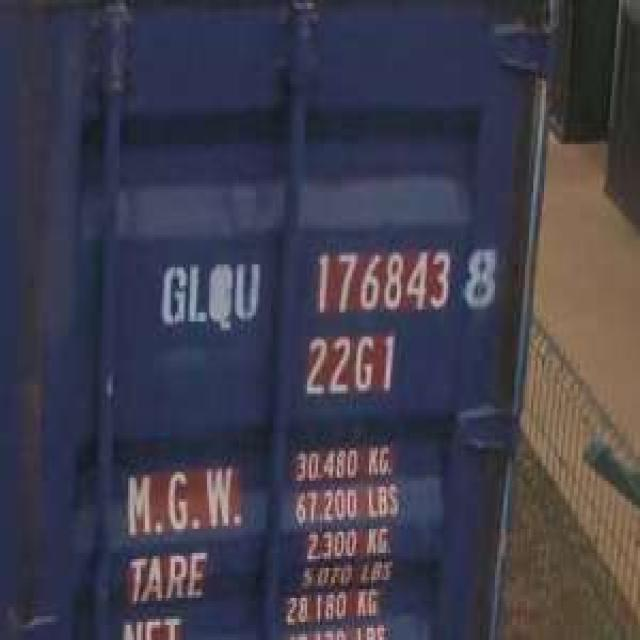dv: (459, 238, 499, 312)
owner: (152, 250, 264, 342)
serial: (307, 240, 452, 322)
size: (299, 328, 399, 402)
